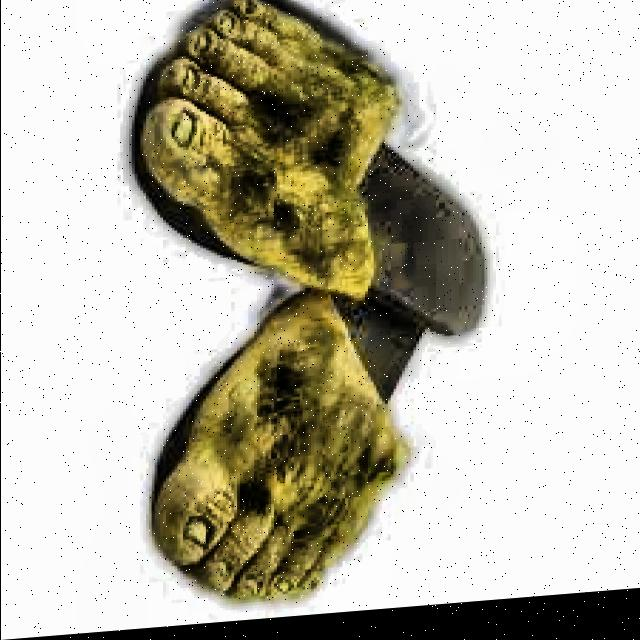shoes: (114, 0, 546, 631)
